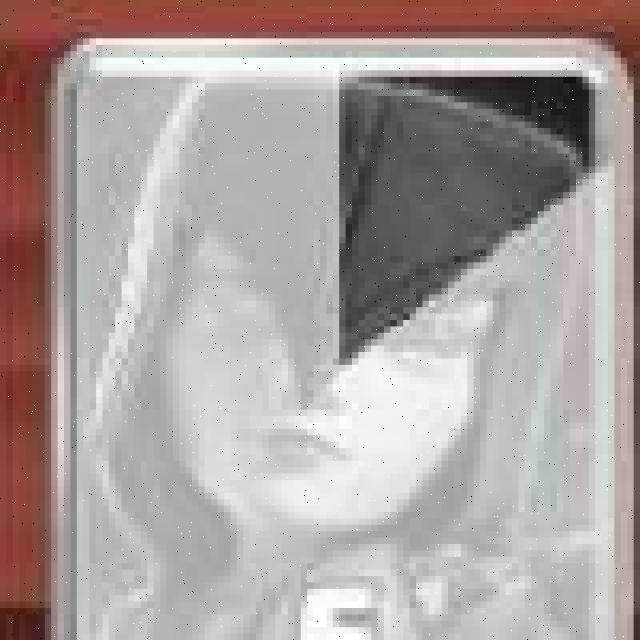Witch: (50, 39, 632, 640)
